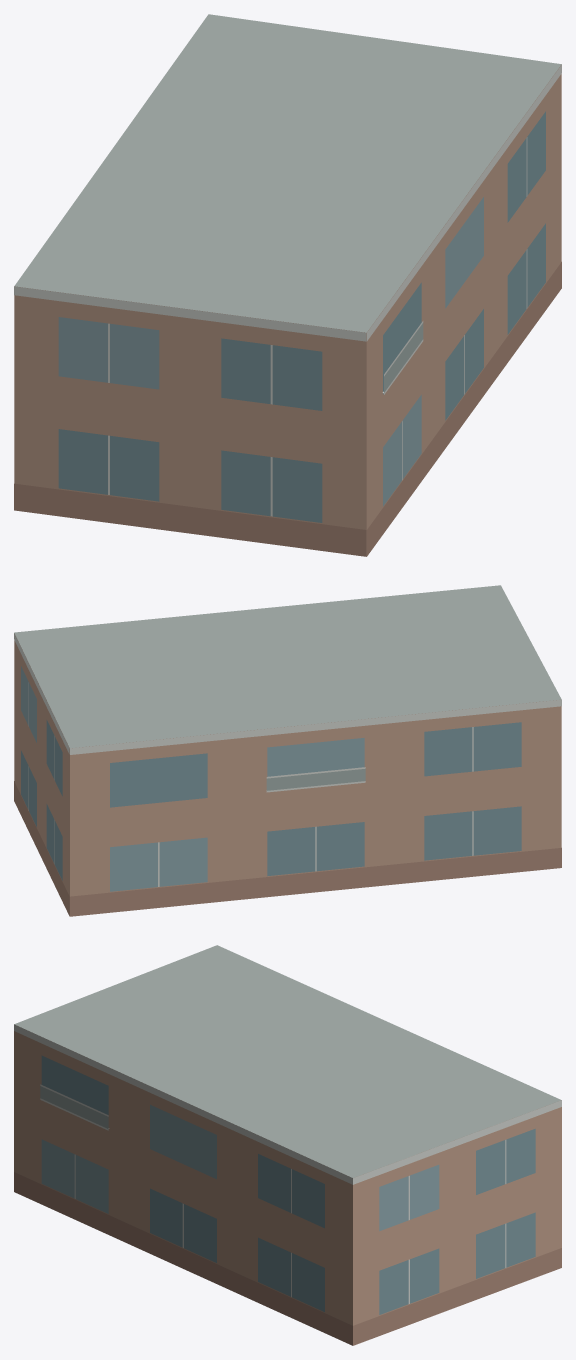
The model's file is survey-upis-32683858.glb.
3 renders of one model, top to bottom at view 1: azimuth 30°, elevation 25°; view 2: azimuth 150°, elevation 25°; view 3: azimuth 270°, elevation 25°, orthographic. The views are drawn at different scales.
Parts seen in each view (by area): view 1: survey-upis-32683858.tmp; view 2: survey-upis-32683858.tmp; view 3: survey-upis-32683858.tmp.
Boxes of the visible parts, x1,y1,x2,y2 form: survey-upis-32683858.tmp: (14, 14, 561, 556); survey-upis-32683858.tmp: (14, 585, 561, 916); survey-upis-32683858.tmp: (14, 945, 561, 1345).
Size of the model in its own units: 18.19 by 6.1 by 18.07.
